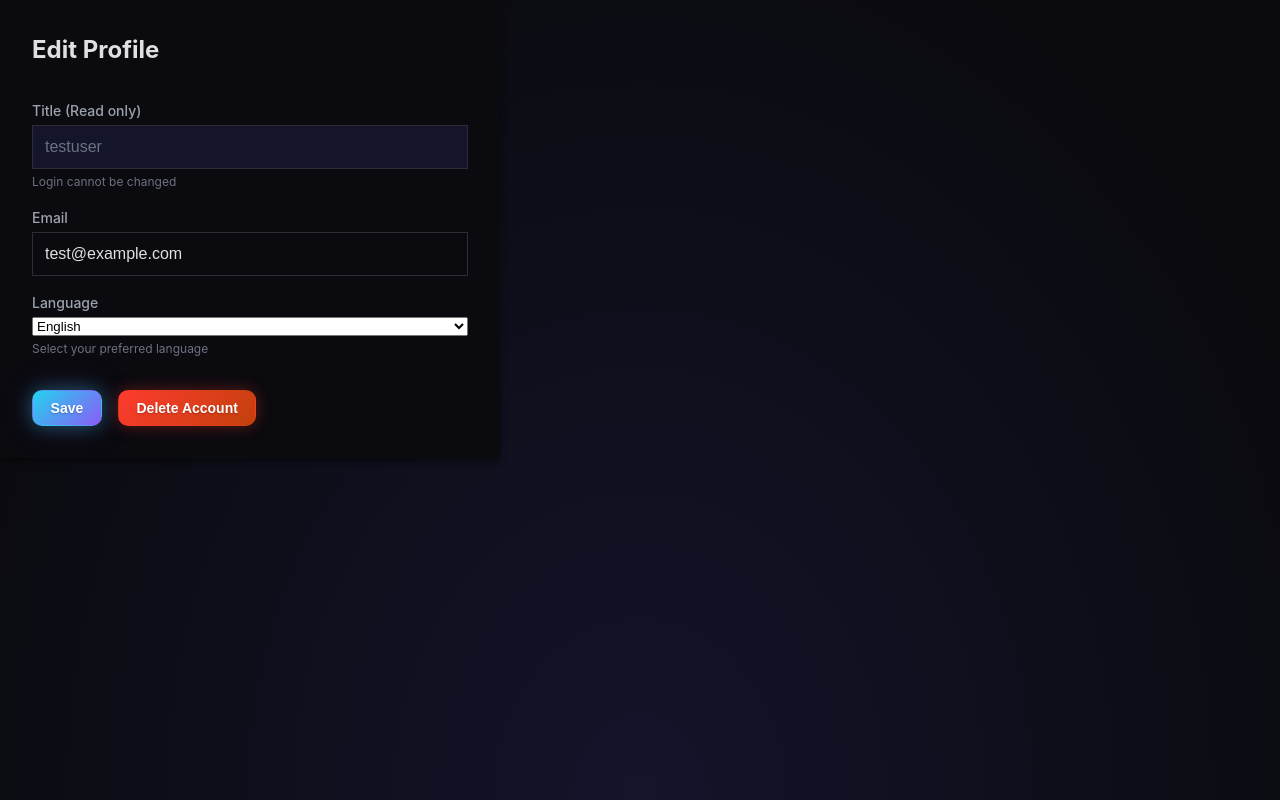
ProfileEditor › shows error when save fails
This screenshot has width=1280, height=800.
Click the button "Save": coordinates (67, 408) [32, 390, 102, 426]
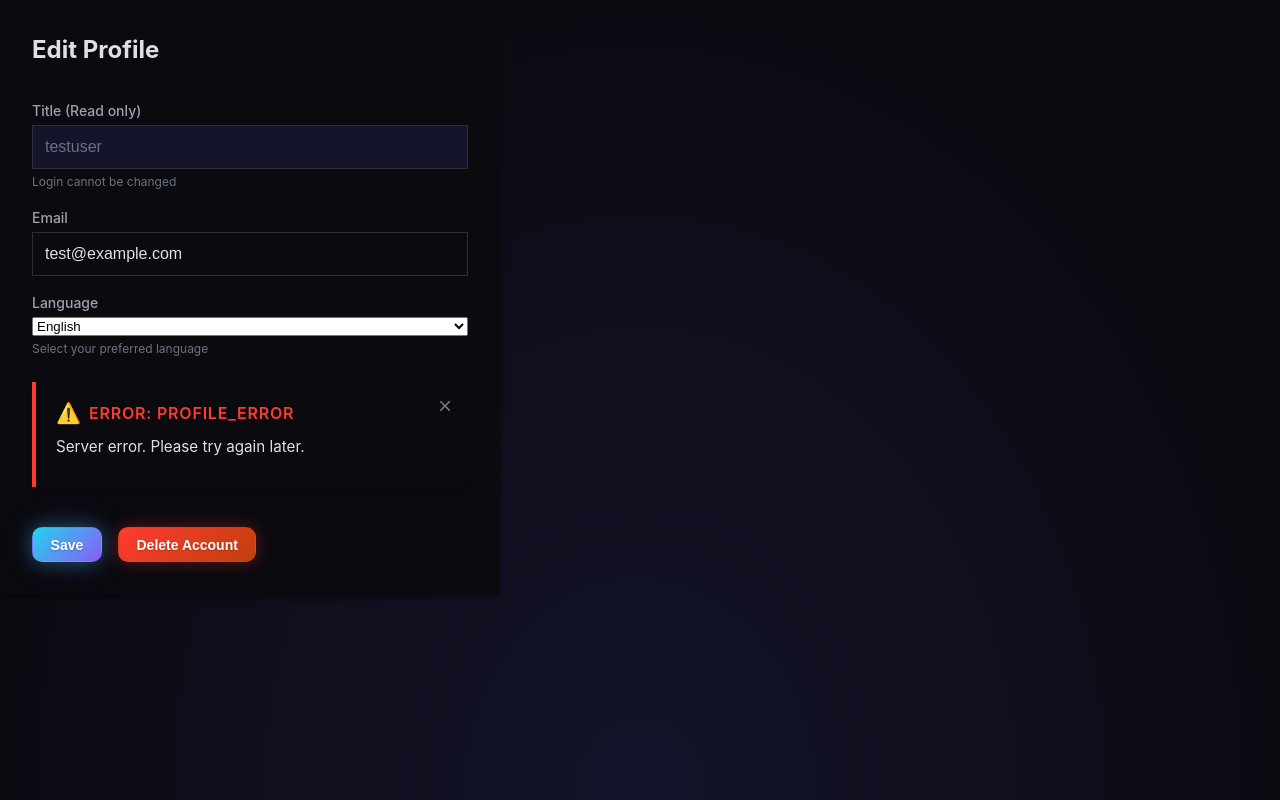
Now the message "× ⚠️ Error: PROFILE_ERROR Server error. Please try again later." is shown, box [32, 382, 468, 487]
